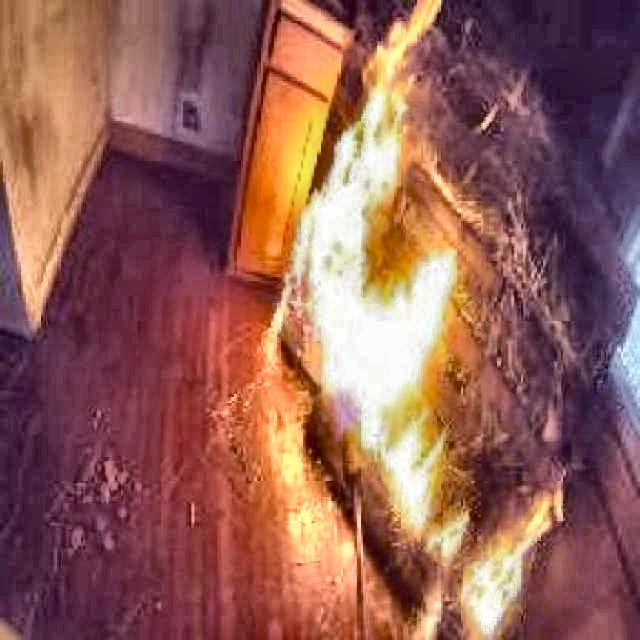fire: (268, 14, 552, 575)
